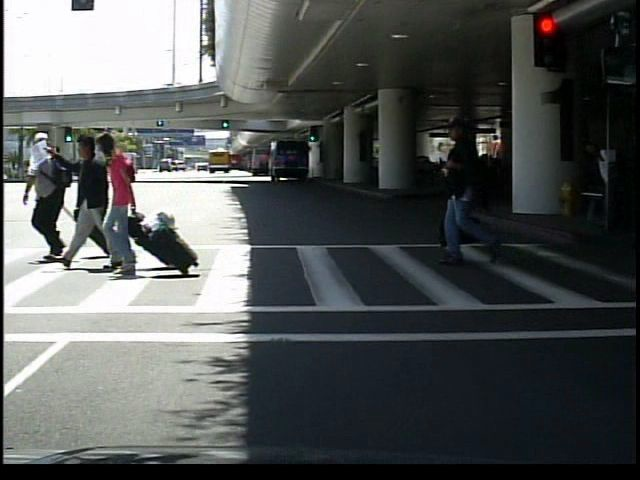person: (436, 113, 515, 265)
